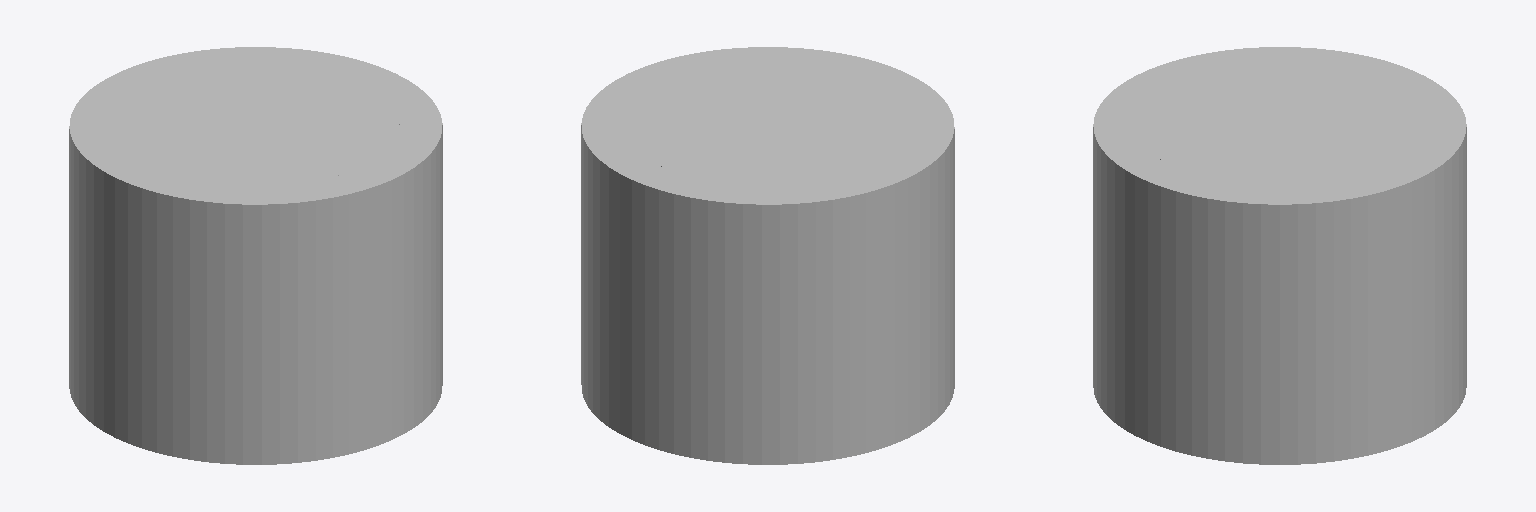
File: Circle Dynamic Stage Mockup.obj
3 views of the same model, side by side, from view 1: azimuth 30°, elevation 25°; view 2: azimuth 150°, elevation 25°; view 3: azimuth 270°, elevation 25° (orthographic).
Visible parts, largest first — view 1: Cylinder 5.006, Cylinder 5.007, Cylinder 5.005, Cylinder 5.008, Cylinder 5.004, Cylinder 4.006, Cylinder 4.002, Cylinder 5.003, Cylinder 5.002, Cylinder 5.001, Cylinder 4.004, Cylinder 4.005 (+10 smaller); view 2: Cylinder 5.001, Cylinder 5.008, Cylinder 5.002, Cylinder 5.007, Cylinder 5.003, Cylinder 4.002, Cylinder 4.006, Cylinder 5.004, Cylinder 5.005, Cylinder 5.006, Cylinder 4.004, Cylinder 4.005 (+10 smaller); view 3: Cylinder 5.004, Cylinder 5.003, Cylinder 5.002, Cylinder 5.005, Cylinder 4.006, Cylinder 4.002, Cylinder 5.006, Cylinder 5.008, Cylinder 5.001, Cylinder 5.007, Cylinder 4.004, Cylinder 4.001 (+10 smaller).
Part boxes in pixels (x1,y1,x2,y2): Cylinder 5.006: (207, 178, 348, 464); Cylinder 5.007: (94, 156, 218, 461); Cylinder 5.005: (328, 142, 435, 453); Cylinder 5.008: (69, 105, 130, 424); Cylinder 5.004: (381, 87, 442, 405); Cylinder 4.006: (112, 110, 326, 186); Cylinder 4.002: (132, 65, 292, 183); Cylinder 5.003: (294, 50, 417, 95); Cylinder 5.002: (163, 47, 303, 72); Cylinder 5.001: (76, 58, 182, 109); Cylinder 4.004: (344, 96, 399, 141); Cylinder 4.005: (307, 137, 393, 177); Cylinder 5.001: (674, 178, 815, 464); Cylinder 5.008: (805, 156, 929, 461); Cylinder 5.002: (588, 142, 695, 453); Cylinder 5.007: (893, 106, 954, 424); Cylinder 5.003: (581, 86, 643, 405); Cylinder 4.002: (630, 110, 910, 177); Cylinder 4.006: (794, 73, 905, 183); Cylinder 5.004: (607, 50, 730, 94); Cylinder 5.005: (721, 47, 860, 72); Cylinder 5.006: (841, 58, 947, 109); Cylinder 4.004: (644, 67, 741, 104); Cylinder 4.005: (731, 65, 839, 88); Cylinder 5.004: (1148, 169, 1279, 464); Cylinder 5.003: (1280, 169, 1411, 464); Cylinder 5.002: (1382, 126, 1466, 441); Cylinder 5.005: (1093, 126, 1177, 441); Cylinder 4.006: (1136, 65, 1379, 125); Cylinder 4.002: (1180, 65, 1423, 168); Cylinder 5.006: (1093, 70, 1177, 125); Cylinder 5.008: (1280, 47, 1410, 82); Cylinder 5.001: (1383, 70, 1466, 125); Cylinder 5.007: (1149, 47, 1279, 82); Cylinder 4.004: (1179, 156, 1279, 186); Cylinder 4.001: (1352, 83, 1423, 125).
Bounding box in the file's own units: 2.6 × 2 × 2.6.